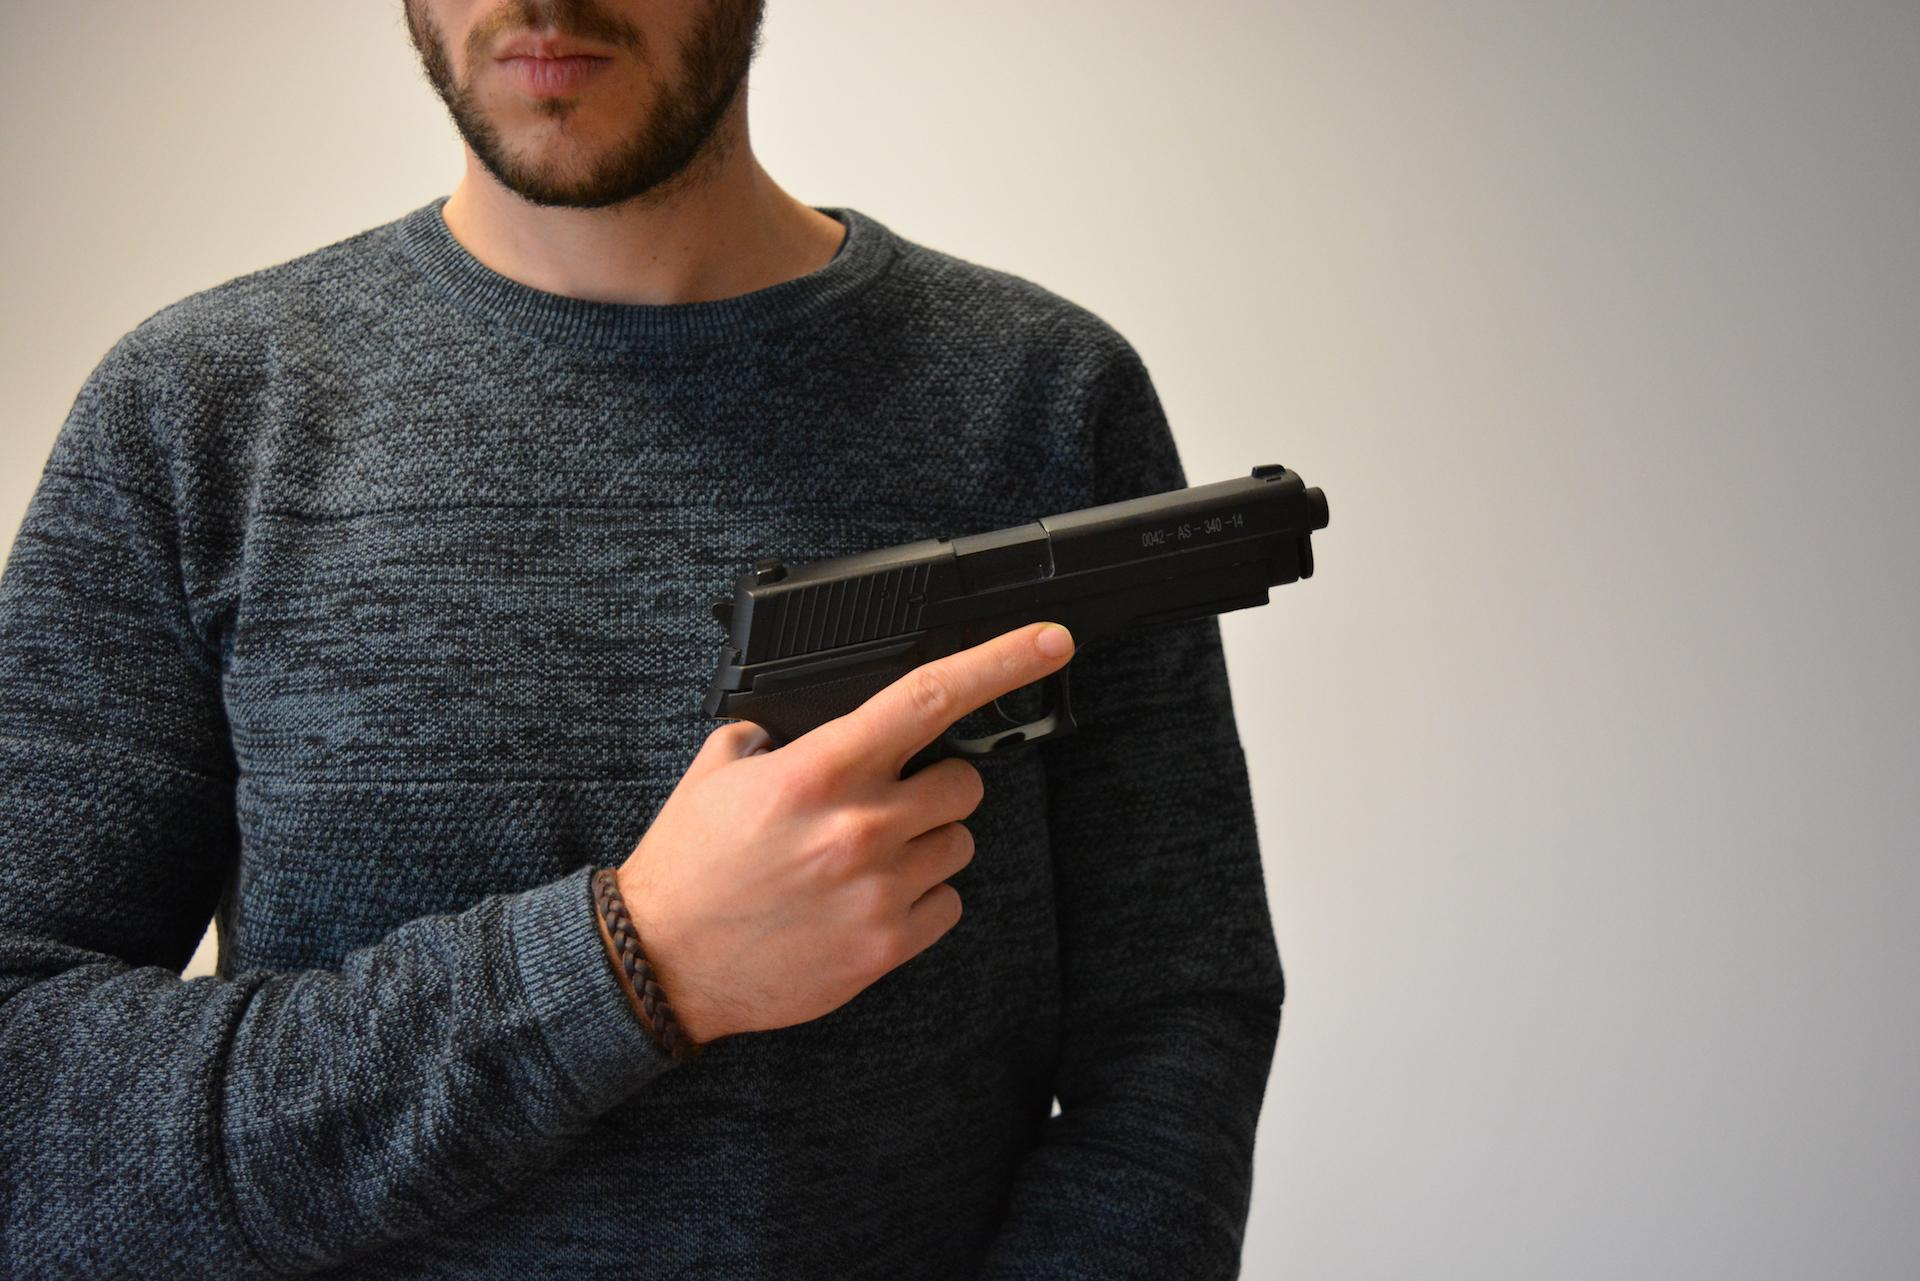criminal: (0, 0, 1337, 1281)
weapon: (705, 460, 1332, 785)
